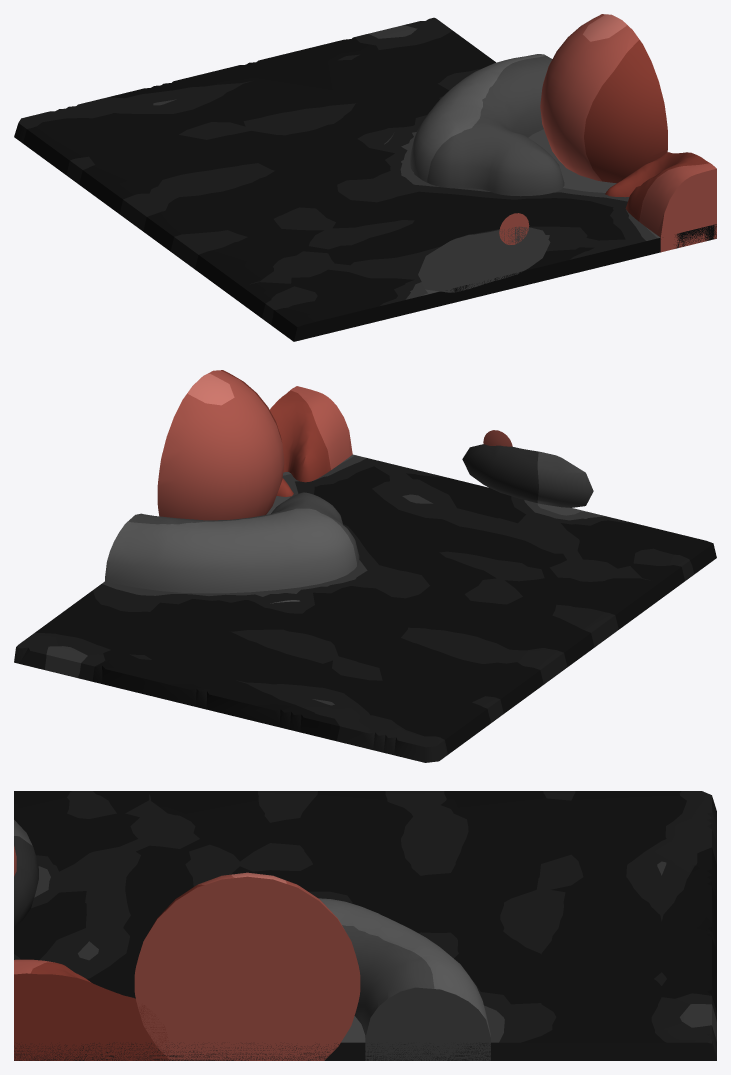
File: brick_bulb_tl.glb
3 renders of one model, top to bottom at view 1: azimuth 30°, elevation 25°; view 2: azimuth 150°, elevation 25°; view 3: azimuth 270°, elevation 25°, orthographic. The views are drawn at different scales.
Parts seen in each view (by area): view 1: wall, bulb, hood, stalk, ring_l, piston_l; view 2: wall, hood, bulb, stalk, ring_l; view 3: wall, bulb, hood, stalk, ring_l.
Part boxes in pixels (bbox=[...]): wall: bbox=[14, 17, 716, 341]; bulb: bbox=[540, 14, 667, 183]; hood: bbox=[384, 54, 564, 196]; stalk: bbox=[605, 152, 716, 252]; ring_l: bbox=[418, 226, 550, 292]; piston_l: bbox=[499, 213, 529, 244]; wall: bbox=[14, 454, 716, 762]; hood: bbox=[105, 492, 359, 603]; bulb: bbox=[157, 370, 284, 520]; stalk: bbox=[270, 386, 352, 496]; ring_l: bbox=[462, 444, 593, 507]; wall: bbox=[14, 791, 716, 1060]; bulb: bbox=[134, 872, 360, 1060]; hood: bbox=[319, 898, 490, 1060]; stalk: bbox=[14, 959, 169, 1060]; ring_l: bbox=[14, 820, 38, 926].
Bounding box in the file's own units: 24 × 8.09 × 28.
